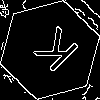K: (25, 25, 81, 81)
